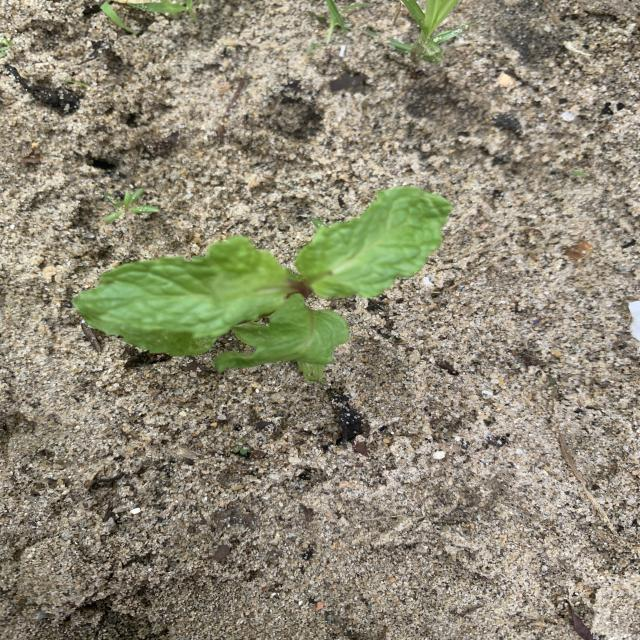crop: (79, 188, 444, 383)
weed: (390, 1, 464, 63), (305, 1, 364, 59), (105, 190, 156, 221), (101, 2, 136, 34), (231, 439, 249, 455), (0, 38, 13, 58), (572, 169, 587, 177)
